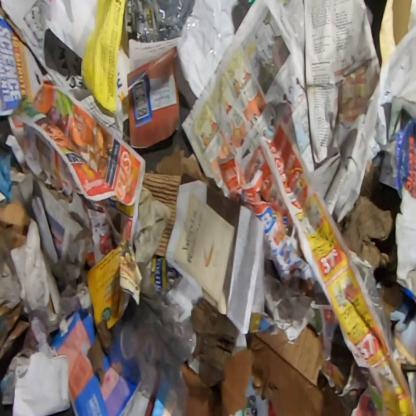cardboard: (0, 0, 124, 141), (182, 323, 350, 416), (9, 158, 93, 288), (341, 159, 405, 322), (142, 142, 224, 257), (85, 237, 143, 389), (372, 117, 415, 305), (0, 299, 39, 406), (378, 0, 413, 71), (0, 199, 31, 275), (114, 45, 134, 133)
soft_plastic: (128, 0, 221, 65)
